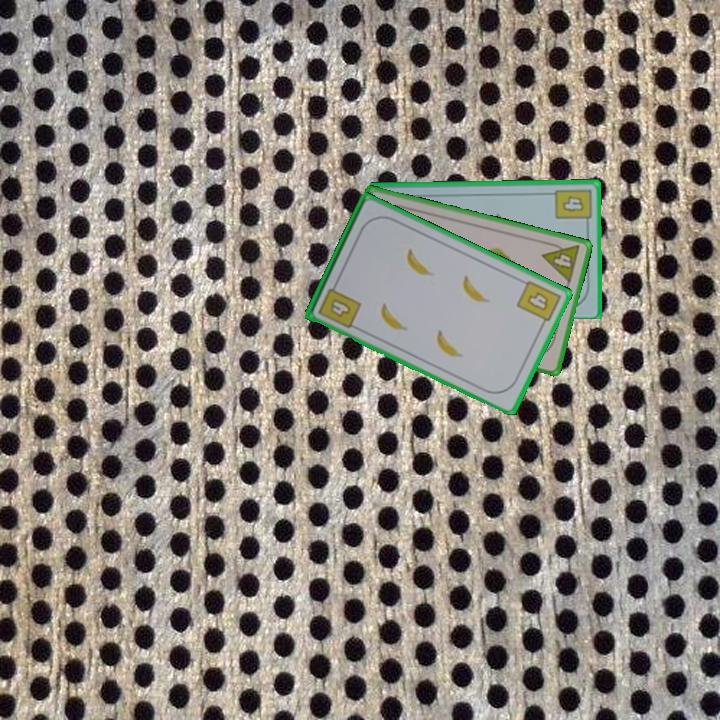4b: (513, 277, 564, 330), (315, 278, 364, 331), (552, 185, 594, 228)
4p: (539, 237, 583, 286)
